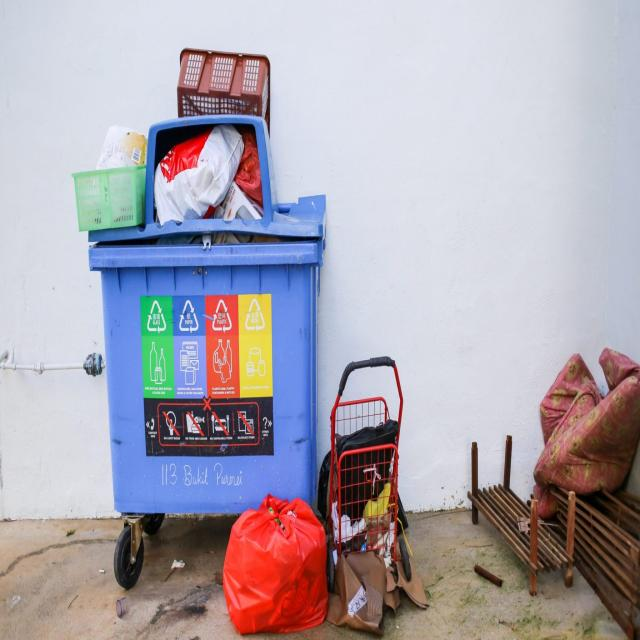bin_full: (85, 125, 324, 558)
bulk_waste: (468, 348, 639, 639), (330, 350, 416, 640), (172, 43, 284, 133)
normal_waste: (221, 493, 323, 635), (154, 124, 247, 224), (96, 126, 150, 170)
